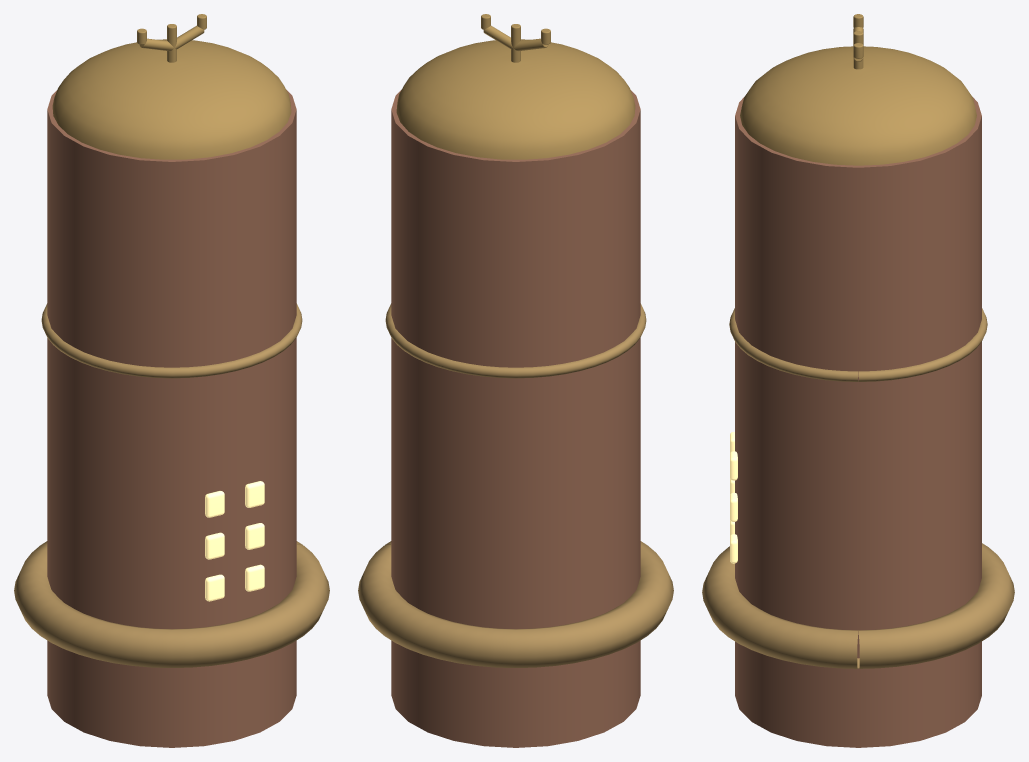
3 views of the same model, side by side, from view 1: azimuth 30°, elevation 25°; view 2: azimuth 150°, elevation 25°; view 3: azimuth 270°, elevation 25° (orthographic).
Parts seen in each view (by area): view 1: Cylindrical tower, Tower crown, Tower intermediate ledge, Tower seam; view 2: Cylindrical tower, Tower crown, Tower intermediate ledge, Tower seam; view 3: Cylindrical tower, Tower crown, Tower intermediate ledge, Tower seam.
Boxes of the visible parts, left/top/right/bottom form: Cylindrical tower: left=47, top=90, right=296, bottom=747; Tower crown: left=52, top=39, right=291, bottom=159; Tower intermediate ledge: left=14, top=541, right=329, bottom=667; Tower seam: left=41, top=303, right=302, bottom=378; Cylindrical tower: left=391, top=90, right=640, bottom=747; Tower crown: left=396, top=39, right=635, bottom=159; Tower intermediate ledge: left=358, top=541, right=673, bottom=667; Tower seam: left=385, top=303, right=646, bottom=378; Cylindrical tower: left=735, top=97, right=981, bottom=747; Tower crown: left=740, top=46, right=976, bottom=165; Tower intermediate ledge: left=702, top=543, right=1014, bottom=668; Tower seam: left=729, top=308, right=987, bottom=381.
Bounding box in the file's own units: 1.37 × 3.21 × 1.37.
